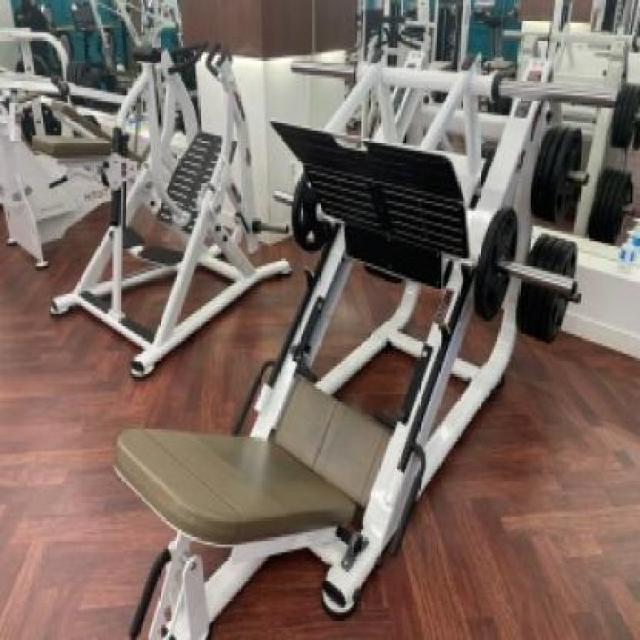leg press: (80, 35, 612, 640)
